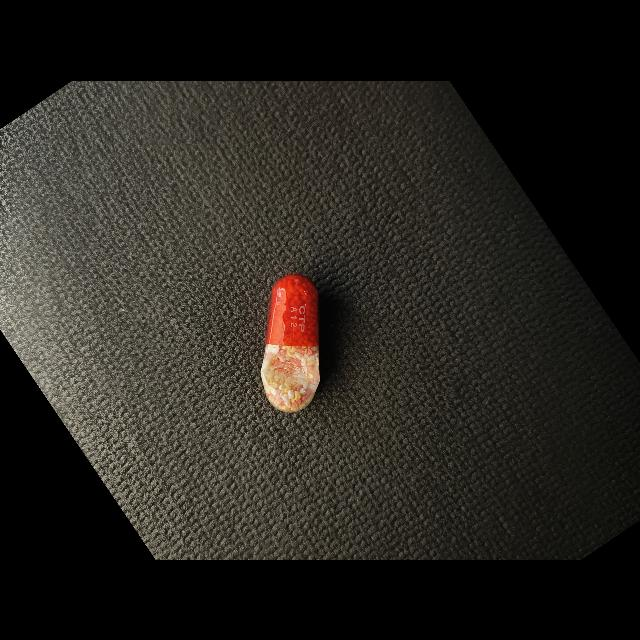Defective Capsule: (261, 274, 320, 412)
